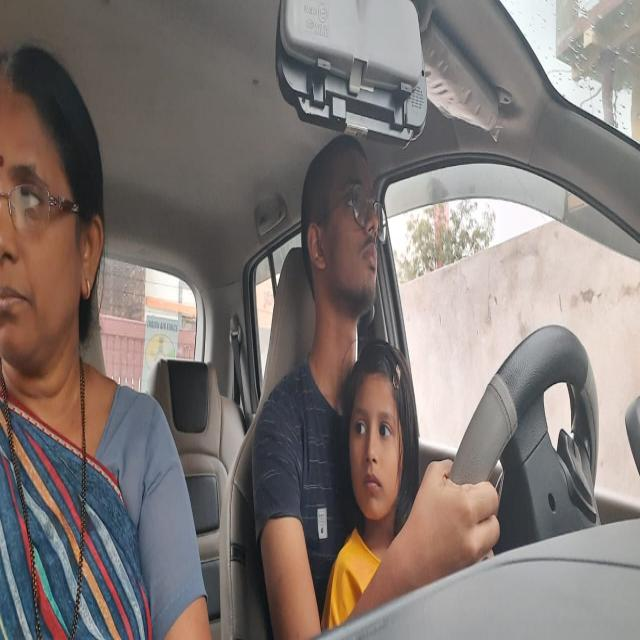child: (341, 332, 415, 530)
person: (0, 42, 121, 380), (302, 132, 395, 324)
